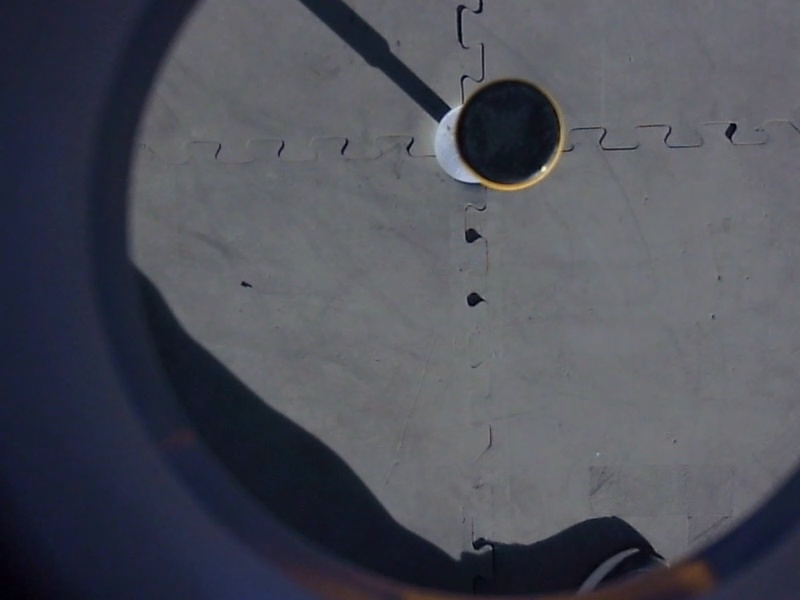tip: (449, 72, 575, 201)
